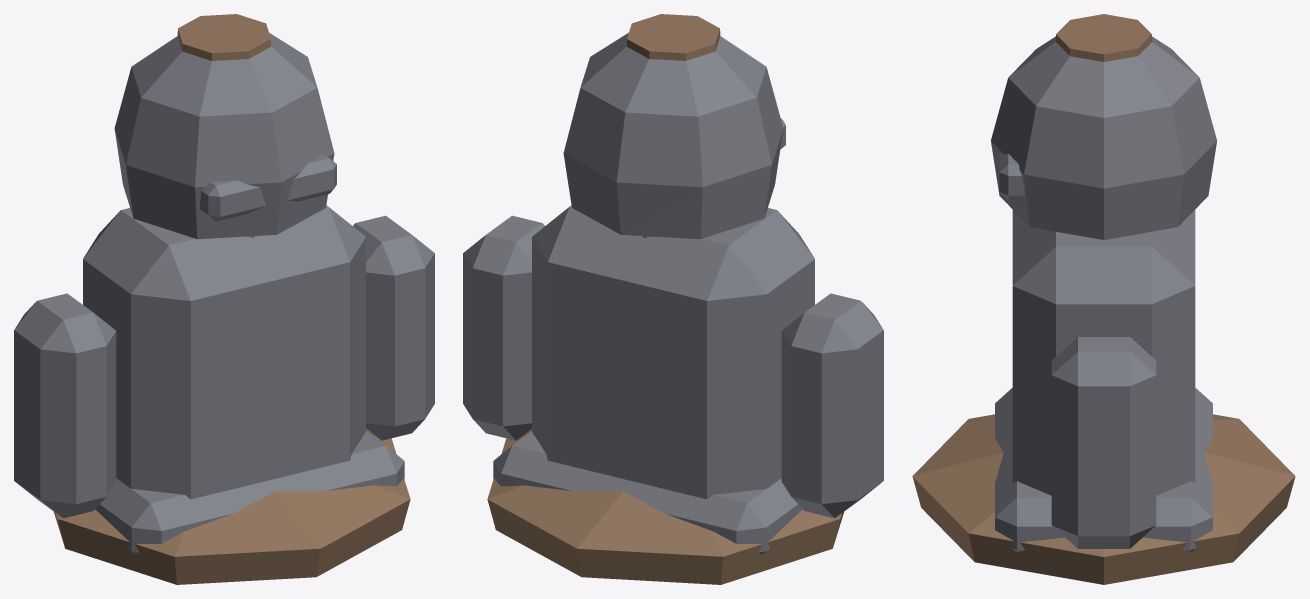
Rendered from town_armour_stand.glb.
3 views of the same model, side by side, from view 1: azimuth 30°, elevation 25°; view 2: azimuth 150°, elevation 25°; view 3: azimuth 270°, elevation 25° (orthographic).
Parts seen in each view (by area): view 1: world; view 2: world; view 3: world.
Boxes of the visible parts, left/top/right/bottom form: world: left=14, top=14, right=434, bottom=584; world: left=463, top=14, right=883, bottom=584; world: left=912, top=14, right=1295, bottom=584.
Size of the model in its own units: 1.73 by 2 by 1.47.
